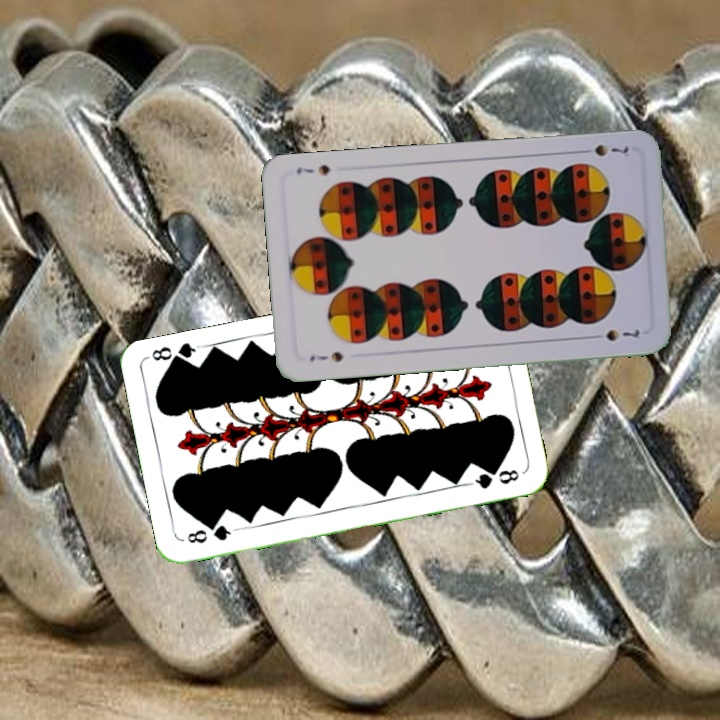G8: (183, 521, 239, 546)
S7: (575, 140, 631, 159), (306, 347, 346, 365)
